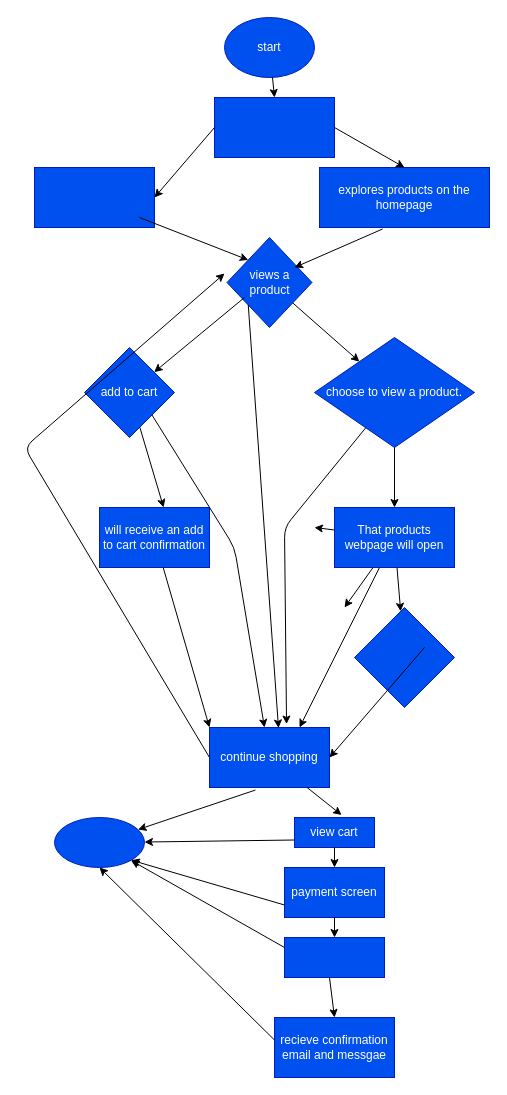
This 507x1095 diagram has some shape labels left out. Each missing label, with the centre of its shape:
"do they like the product?" belongs at point 404,657.
"input payment information" belongs at point 334,957.
"leave website" belongs at point 99,842.
"Searches for products" belongs at point 94,197.
"user enters page" belongs at point 274,127.
